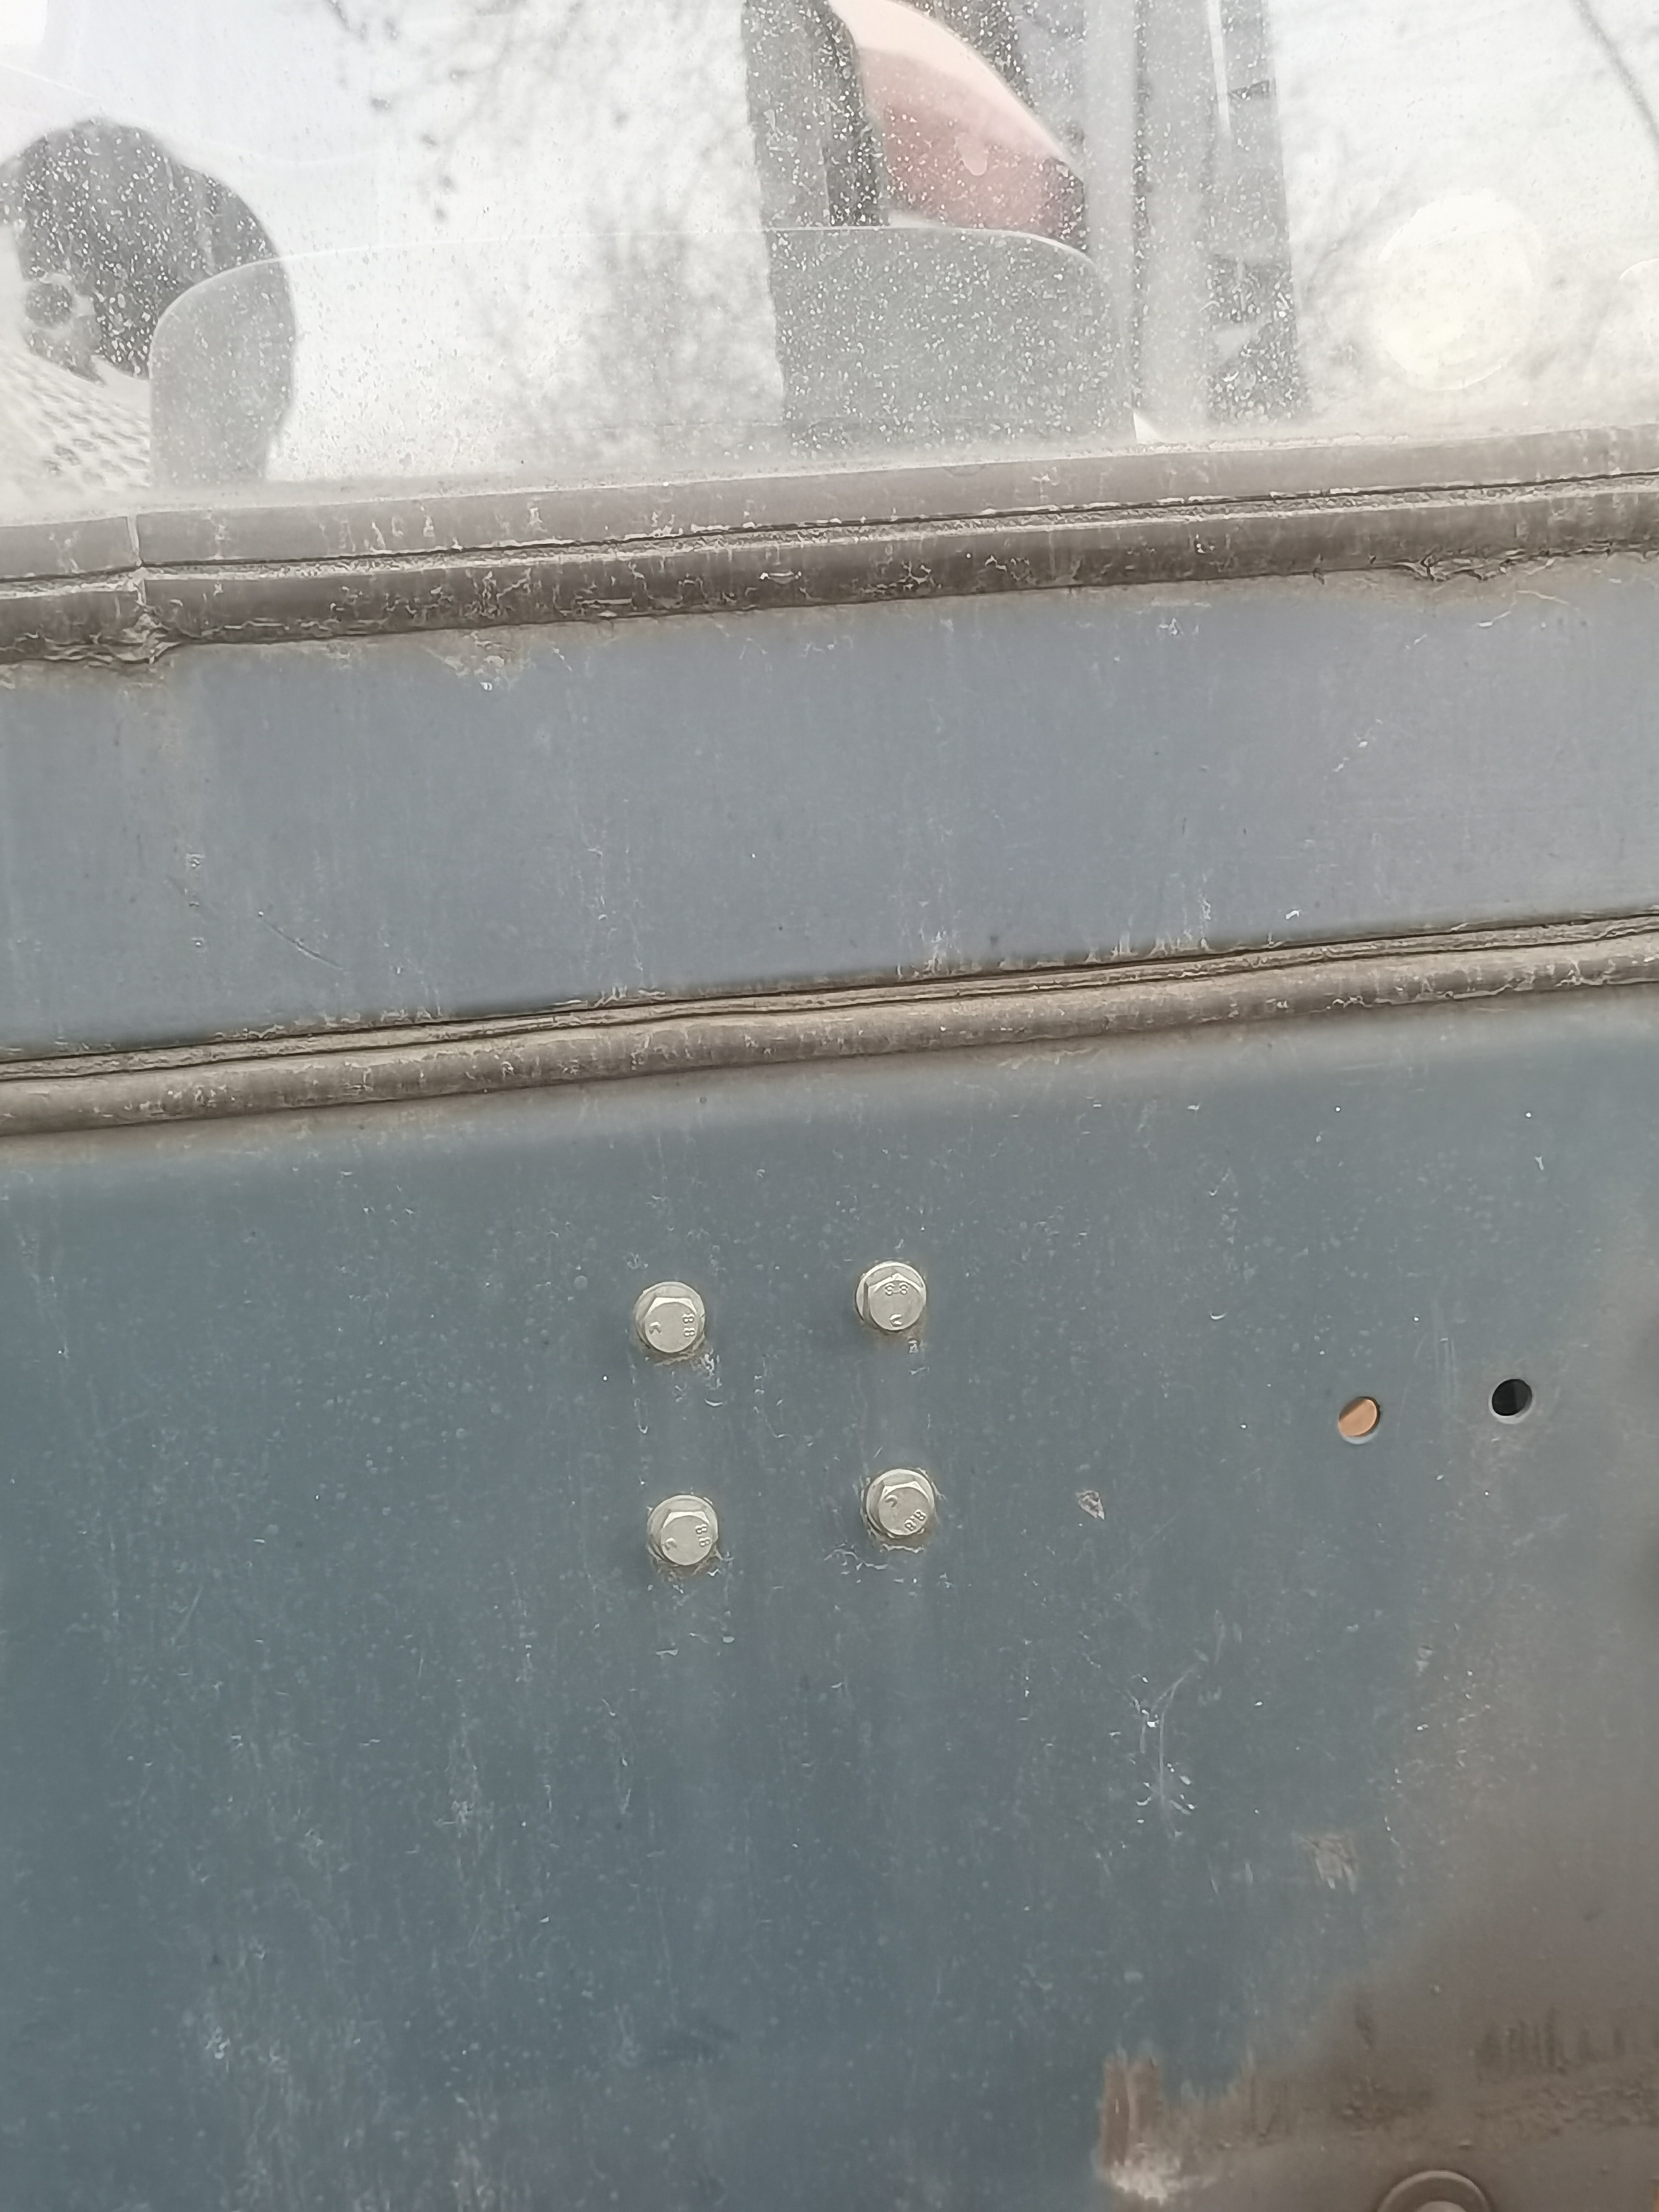bolt_a: (859, 1263, 931, 1341), (634, 1287, 706, 1360), (868, 1474, 936, 1545), (653, 1505, 721, 1573)
